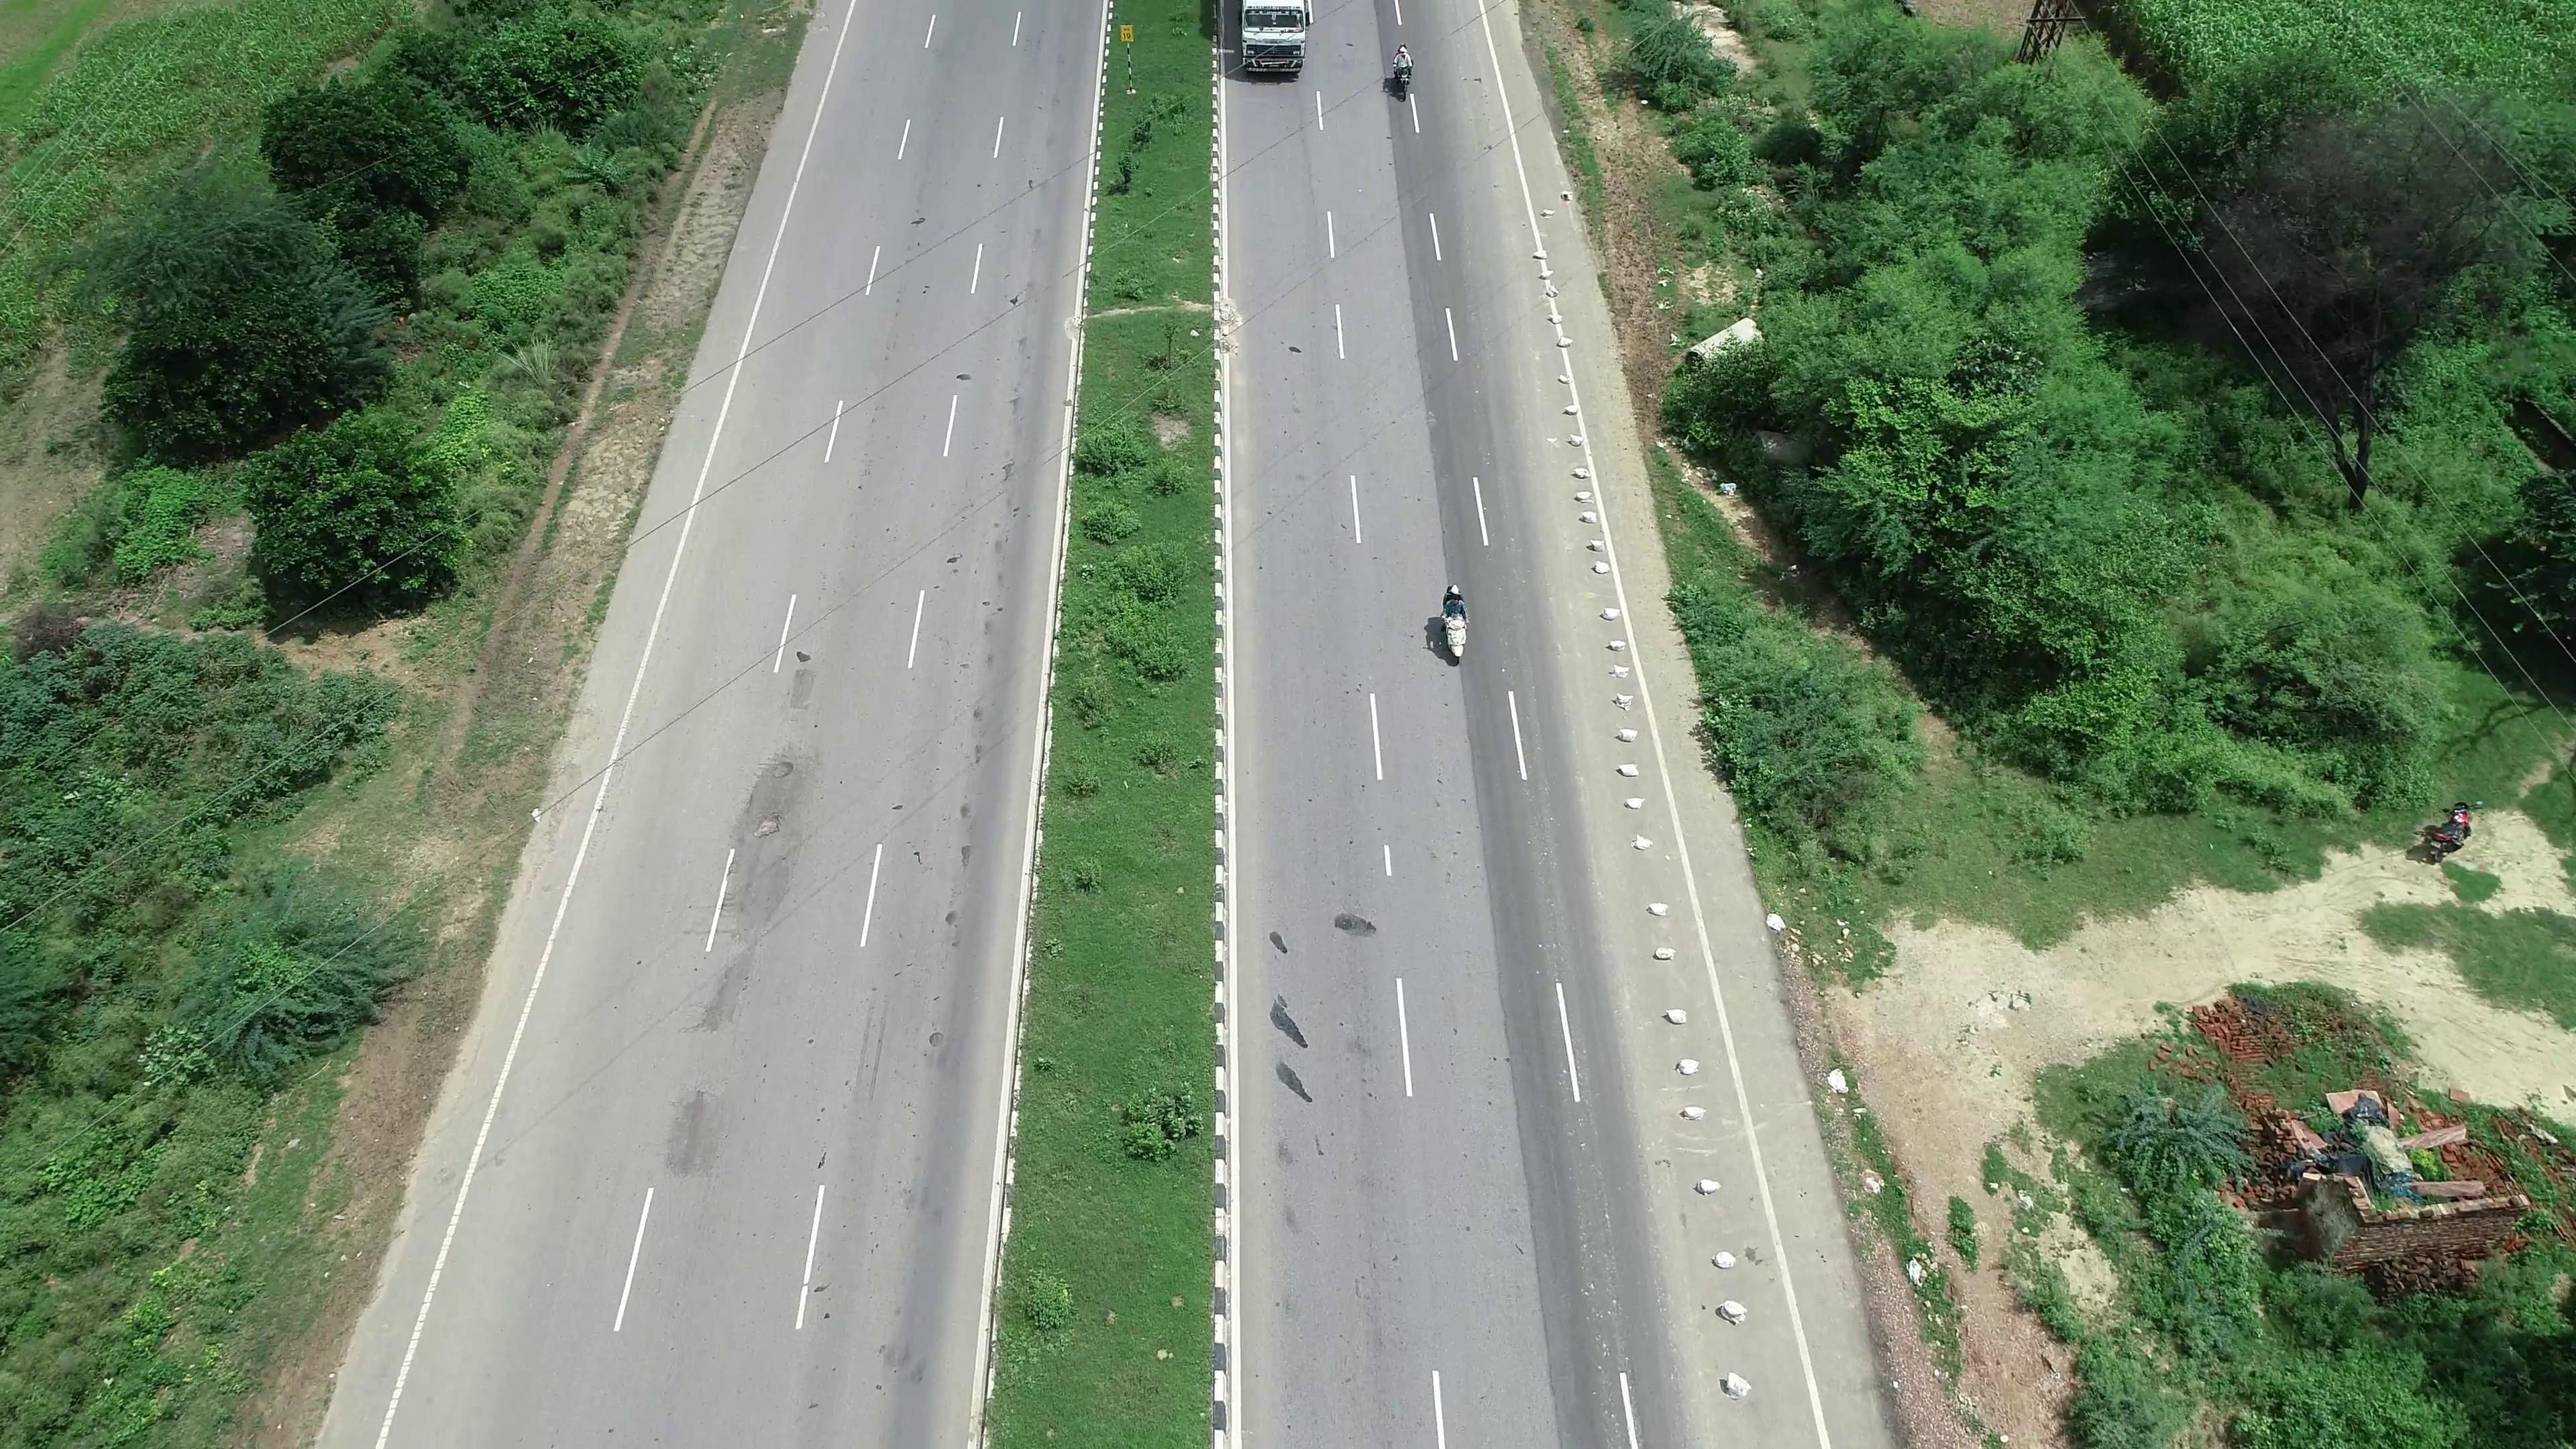Potholes: (718, 732, 835, 870)
